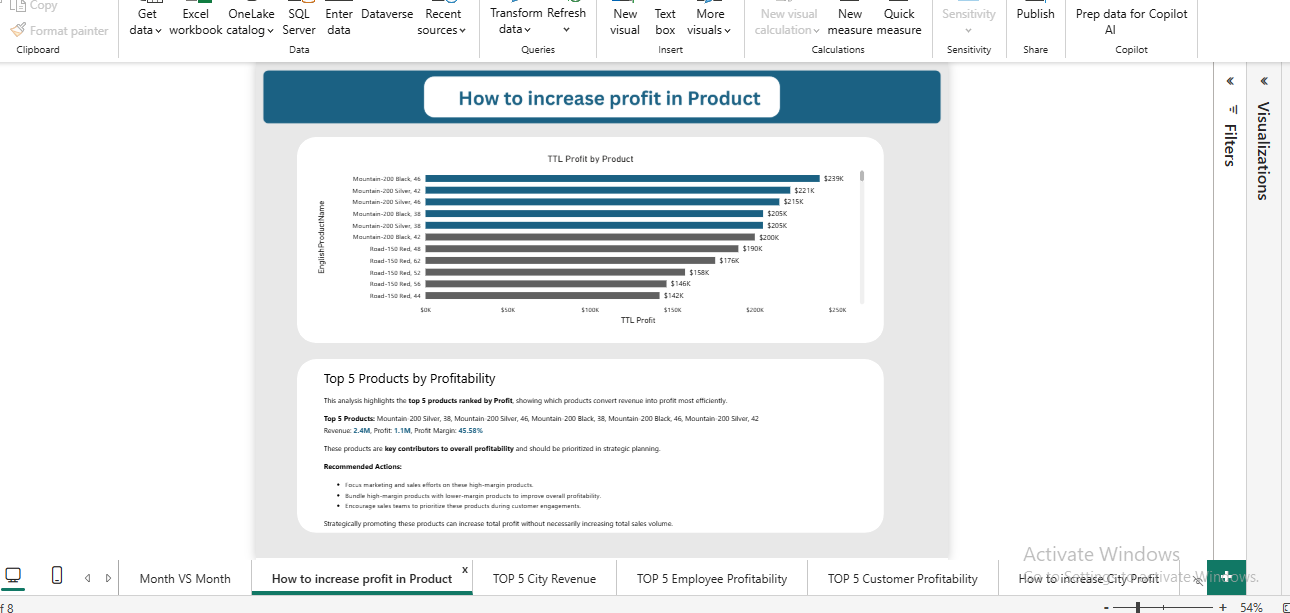

The dashboard page shown, as its layout file describes it:
{"tool":"powerbi","page":{"name":"How to increase profit in Product","canvas":[1280,920],"ordinal":5},"visuals":[{"type":"shape","box":[75.7,548.7,1084.4,321.4],"z":0},{"type":"shape","box":[75.7,138.6,1084.4,380.6],"z":1000},{"type":"clusteredBarChart","title":"TTL Profit by Product ","fields":{"Category":["DimProduct.EnglishProductName"],"Y":["Measure.TTL Profit"]},"box":[107.1,168.1,1021.6,321.4],"z":2000},{"type":"htmlContent443BE3AD55E043BF878BED274D3A6855","fields":{"content":["Measure.TOP Product Profitability"]},"box":[120.1,548.7,1040.1,351],"z":3000}]}

Visuals, with their boxes on the page's 1280x920 design canvas (x1, y1, x2, y2). These are canvas units, not pixel positions in the 1290x613 screenshot, which may show the page scaled, cropped or inside an application window:
shape: <region>76, 549, 1160, 870</region>
shape: <region>76, 139, 1160, 519</region>
"TTL Profit by Product " clusteredBarChart: <region>107, 168, 1129, 490</region>
htmlContent443BE3AD55E043BF878BED274D3A6855 - Measure.TOP Product Profitability: <region>120, 549, 1160, 900</region>
